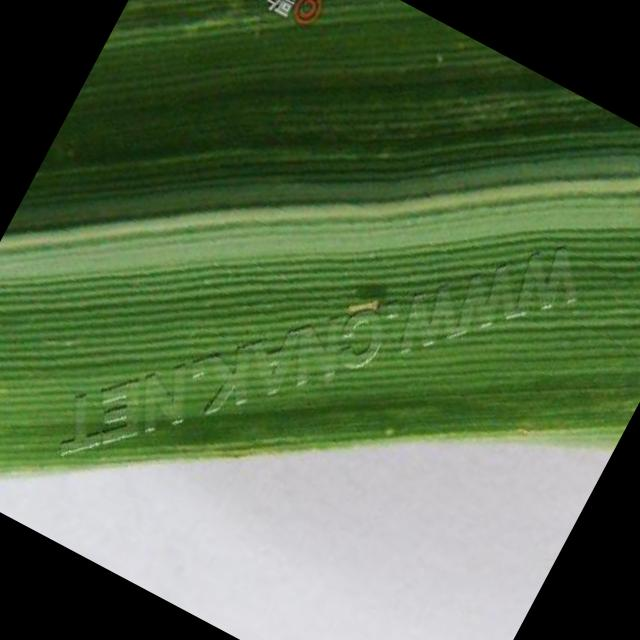leaf-folder: (340, 284, 389, 333)
